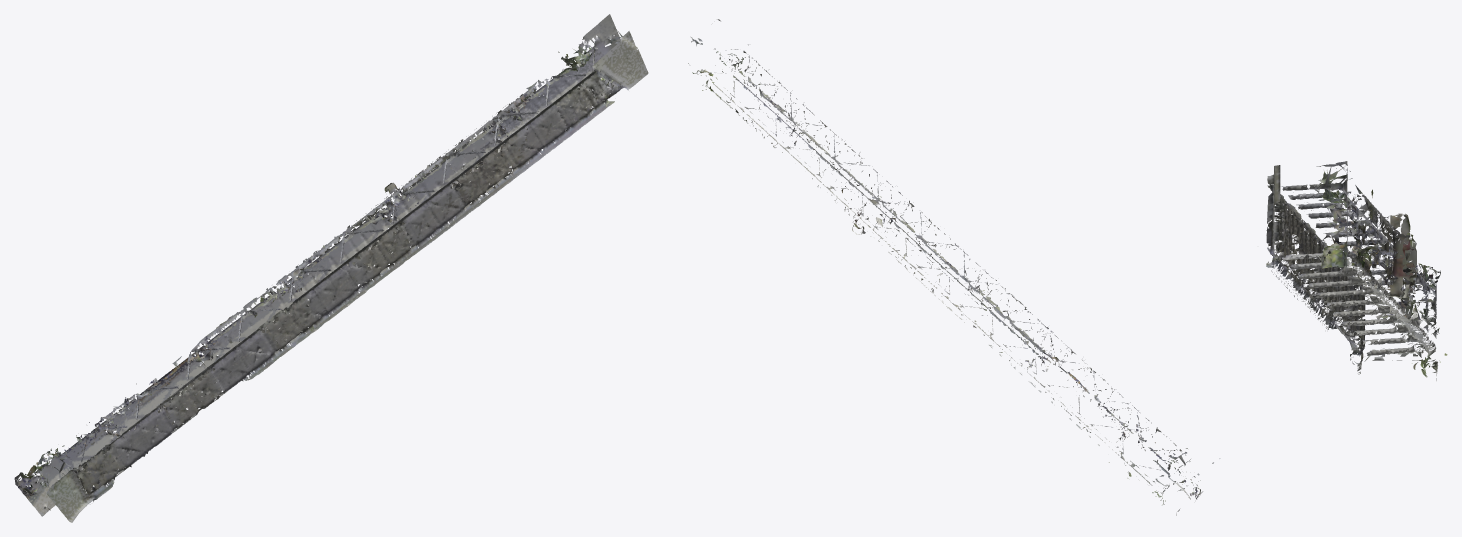
The model's file is bridge_bpa_colored.glb.
The picture shows the model from 3 angles, left to right: view 1: azimuth 30°, elevation 25°; view 2: azimuth 150°, elevation 25°; view 3: azimuth 270°, elevation 25°; orthographic projection. The views are drawn at different scales.
Visible parts, largest first — view 1: bridge_bpa_colored.ply; view 2: bridge_bpa_colored.ply; view 3: bridge_bpa_colored.ply.
Boxes of the visible parts, x1,y1,x2,y2 form: bridge_bpa_colored.ply: [14, 14, 648, 522]; bridge_bpa_colored.ply: [688, 19, 1220, 515]; bridge_bpa_colored.ply: [1266, 161, 1447, 380].
Bounding box in the file's own units: 74.49 × 46.74 × 11.32.
